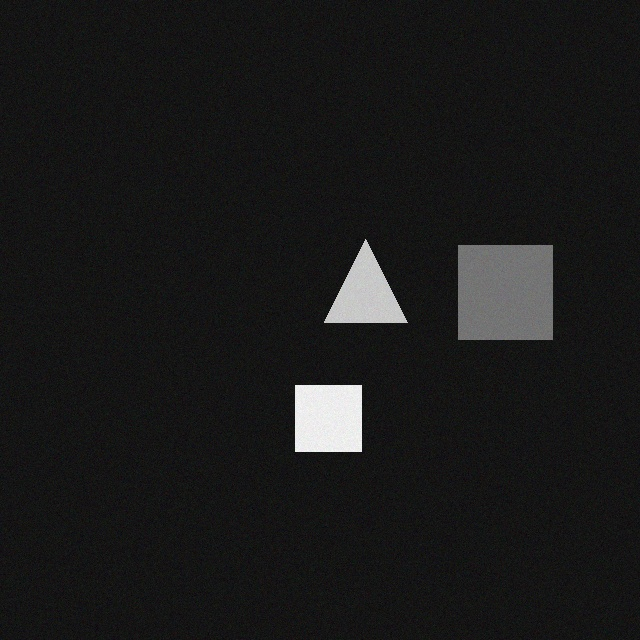square: (460, 253, 554, 347), (297, 393, 363, 459)
triangle: (326, 247, 409, 330)
